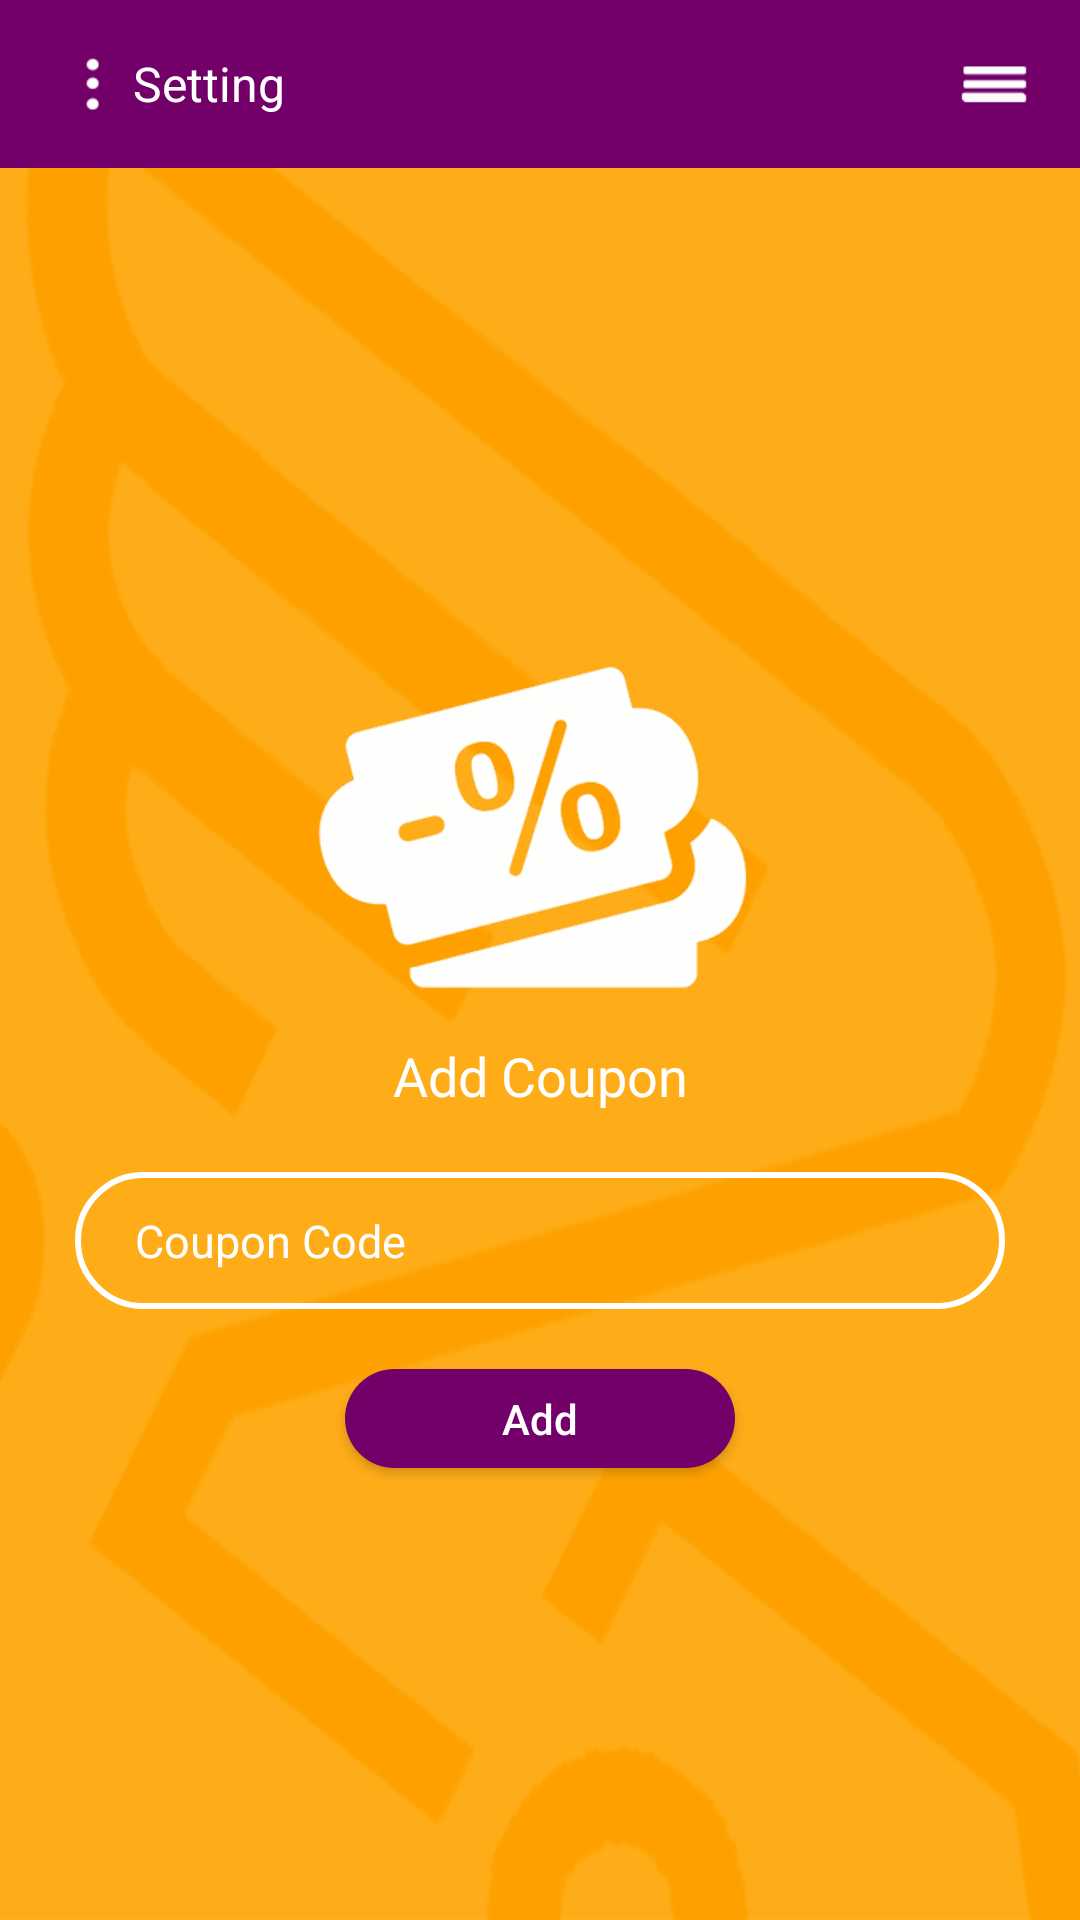

Icons on this 1080px x 1920px Android screen, each with its box as (x1,y1,x2,y2):
menu: (961,66,1027,103)
